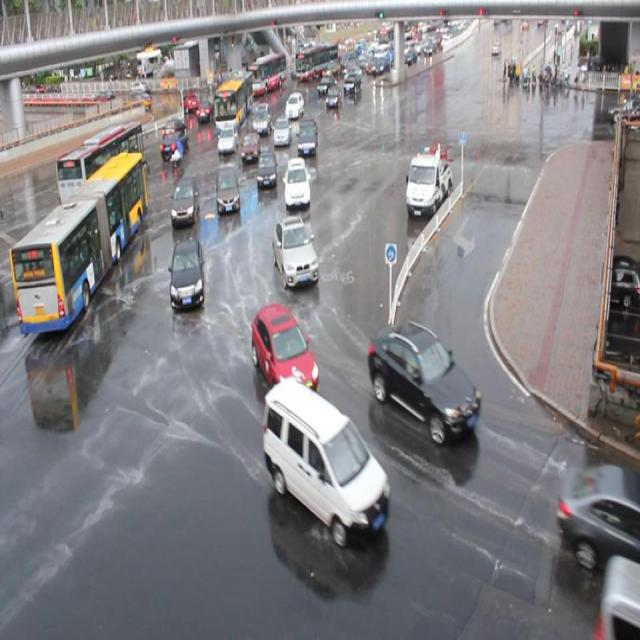bus: (404, 148, 452, 216)
car: (366, 319, 481, 445), (554, 460, 640, 568), (250, 302, 318, 401), (271, 213, 318, 286), (168, 238, 204, 308), (171, 176, 200, 227), (283, 157, 310, 204), (215, 166, 240, 212), (296, 118, 319, 156), (256, 150, 278, 188), (160, 132, 190, 156), (252, 102, 272, 134), (217, 124, 238, 153), (161, 118, 187, 140), (240, 131, 260, 159), (284, 91, 304, 118), (272, 116, 291, 144), (178, 91, 198, 113), (316, 72, 336, 94), (343, 73, 362, 95), (196, 100, 212, 122), (325, 85, 341, 107)
truck: (262, 377, 390, 545)
van: (9, 150, 149, 334), (56, 119, 145, 221), (214, 69, 254, 134), (245, 52, 287, 95)
